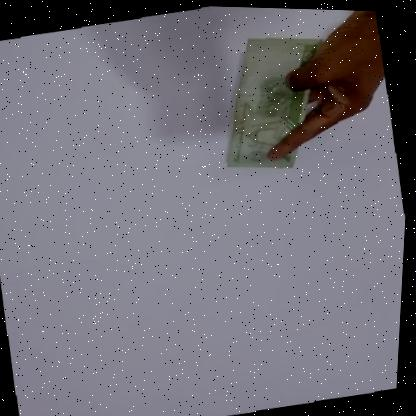fifty-back-vef: (207, 20, 346, 177)
